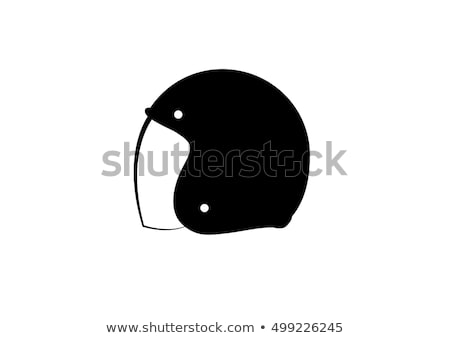with_helmet: (129, 66, 309, 237)
